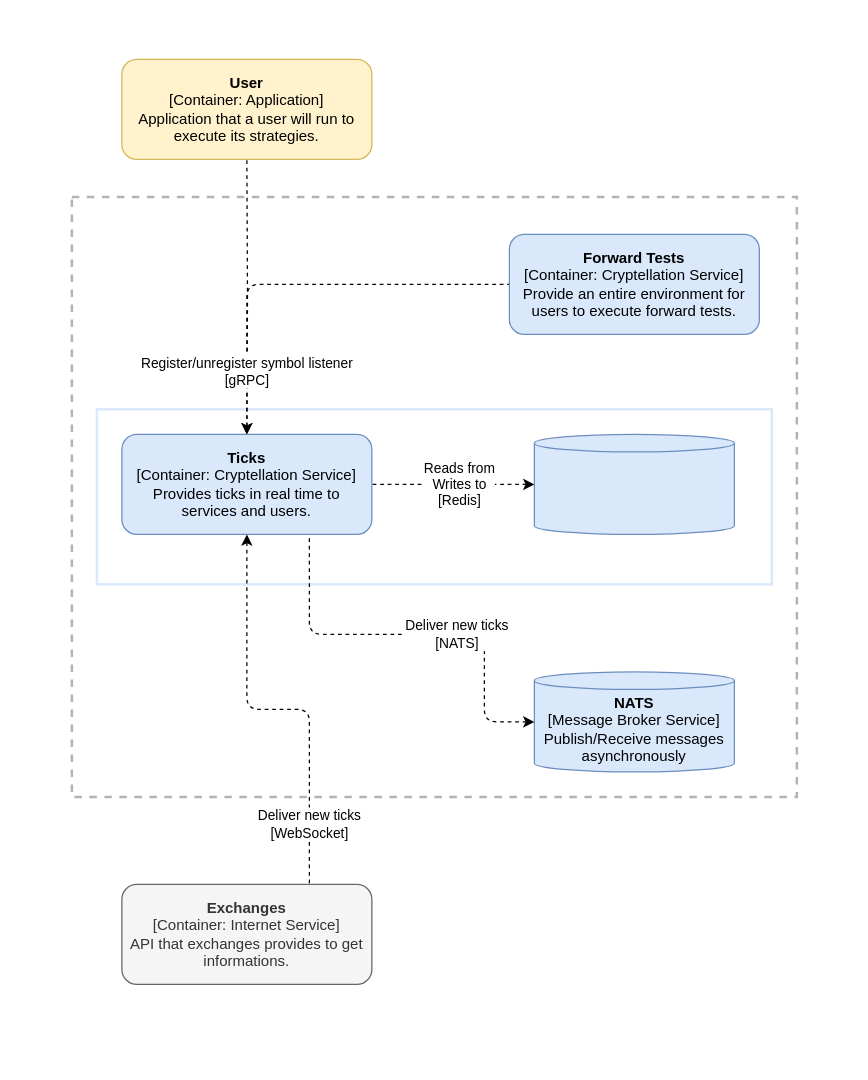
This 868x1080 diagram has some shape labels left out. The shapes that lost their labels are listed below. From the top down, each one's box as (x1, y1, x2, y2) in pixels, then its label:
(95, 408, 772, 585): Ticks [Microservice]
(70, 195, 798, 798): Cryptellation System [Software System]
(533, 433, 734, 534): Database [Container: SQL] Store ticks listener informations
